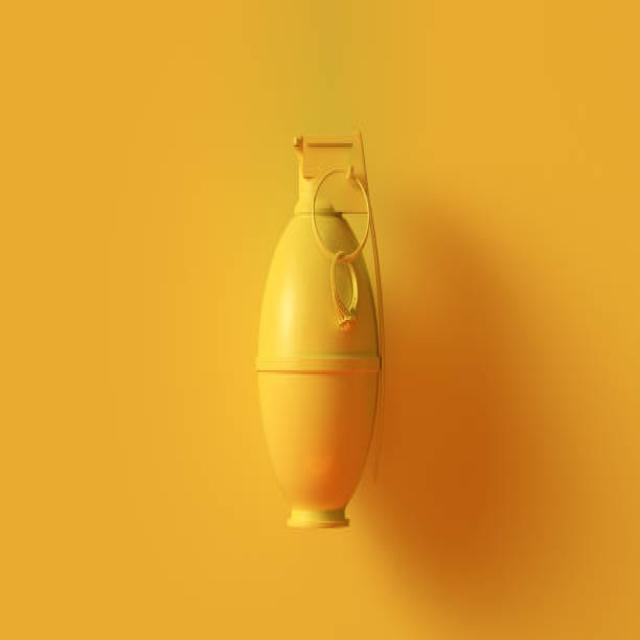grenade: (257, 121, 392, 552)
